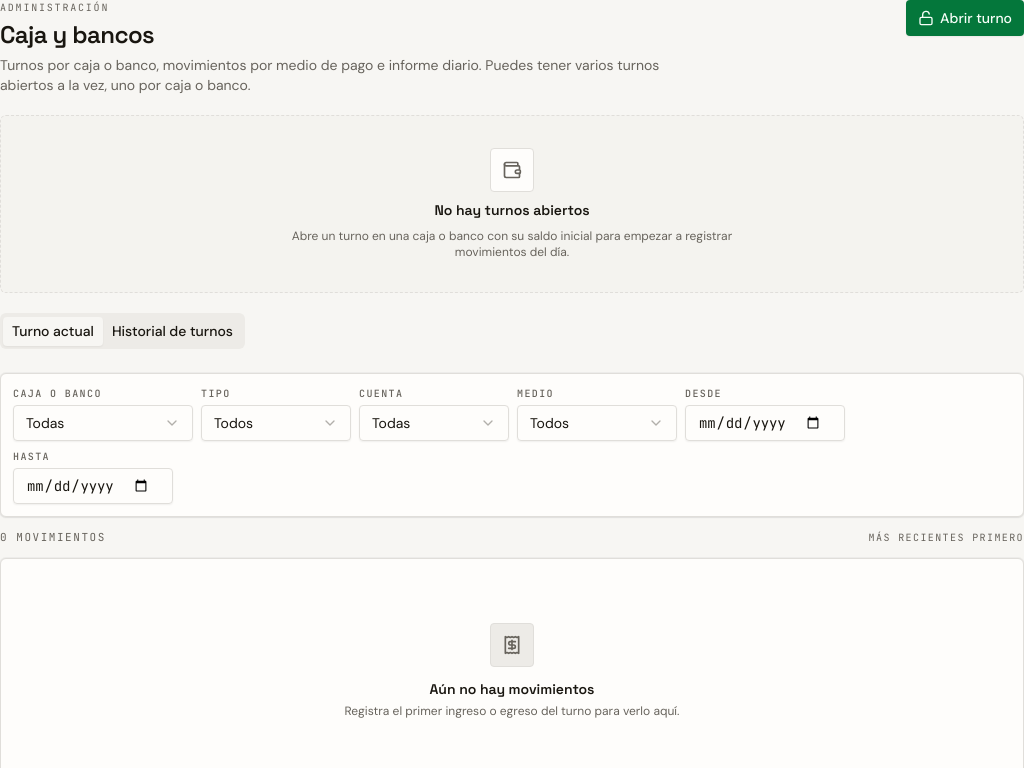
it: CajaBancosPage (multi-register) › surfaces the backend error when a register already has an open shift
Click the button with test id "caja.open_shift_button".
click(965, 18)  # box [906,0,1023,36]
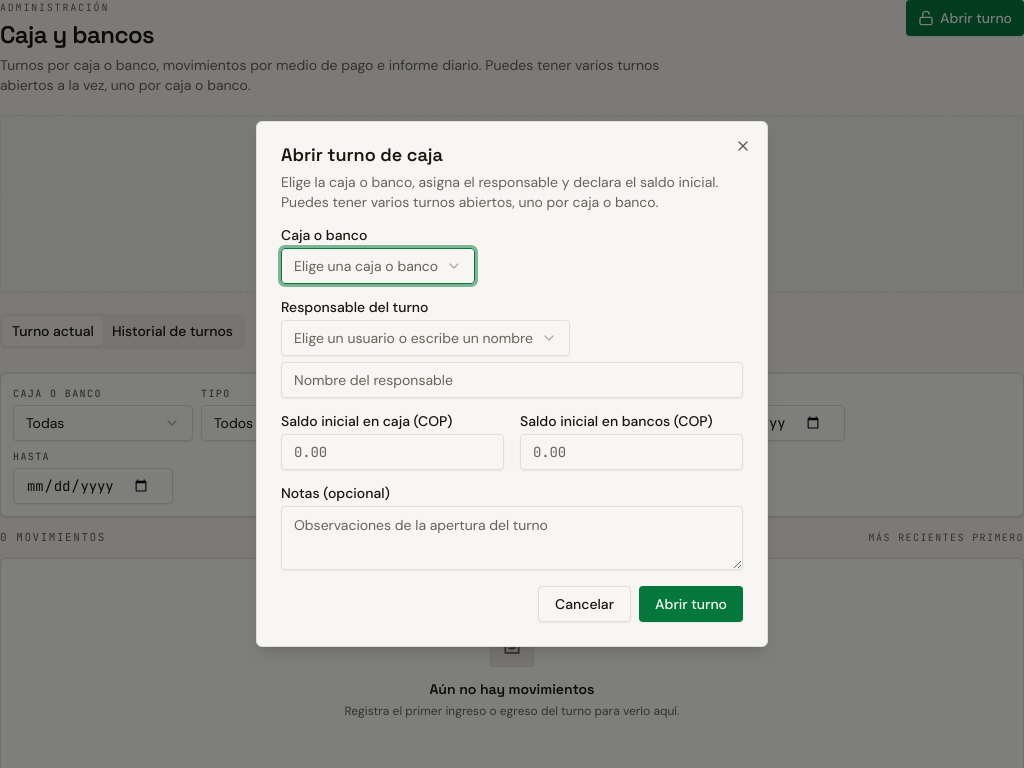
Click the dropdown with test id "caja.open_shift.register_select".
click(378, 266)  # box [281,248,475,284]
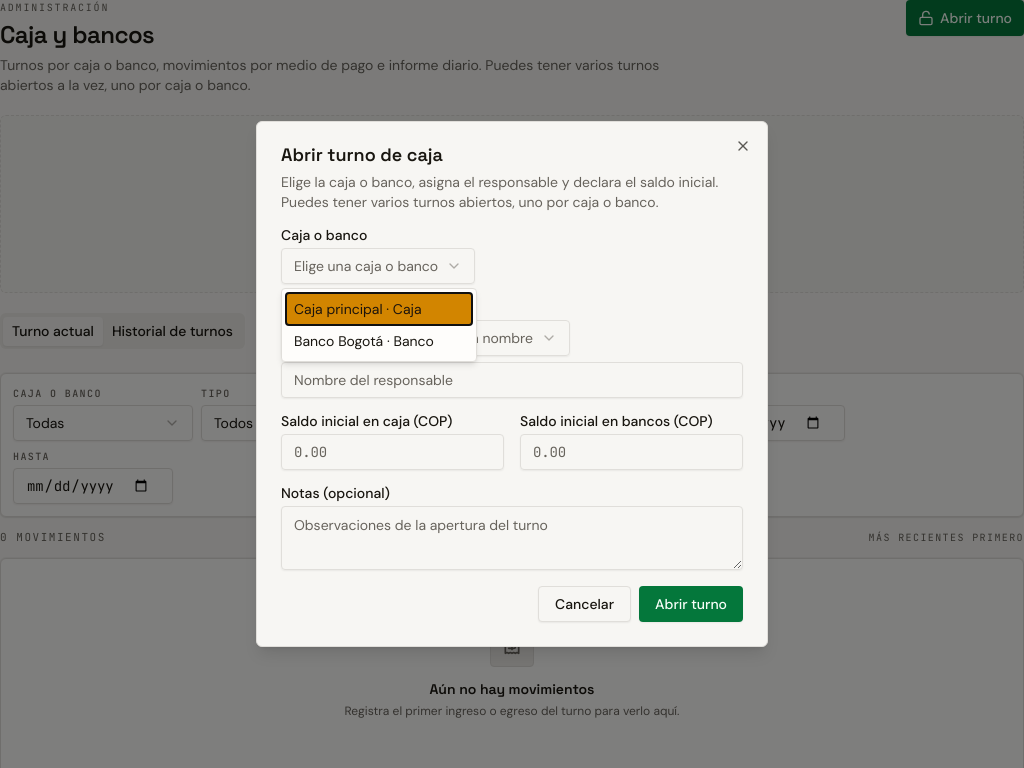
Click the option "Caja principal · Caja".
click(379, 309)  # box [286,293,472,325]
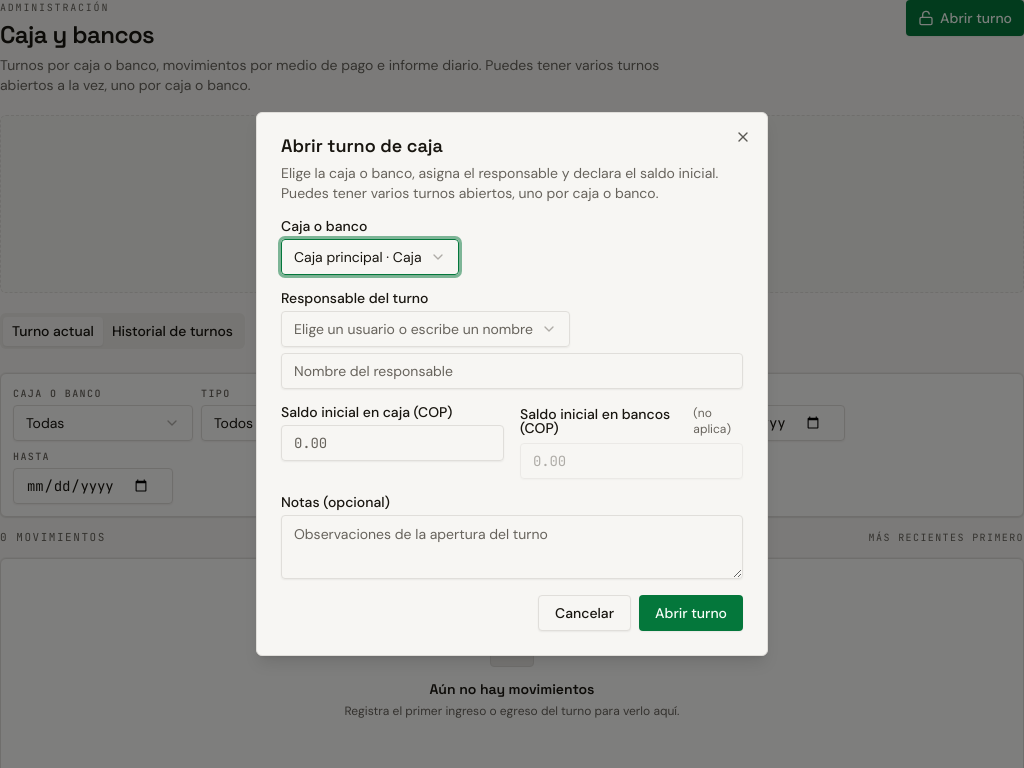
Type "Ana Torres" into the field with test id "caja.open_shift.responsible_input".
click(512, 371); type("Ana Torres")  # box [281,353,743,389]
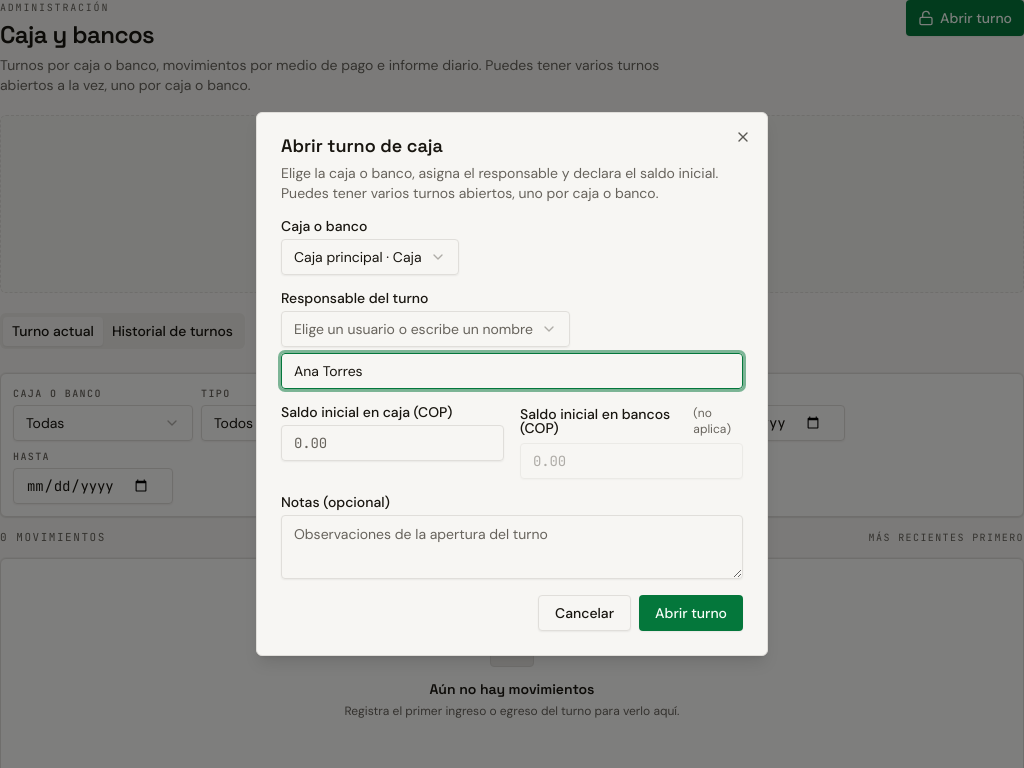
Type "1000" into the field with test id "caja.open_shift.cash_input".
click(392, 443); type("1000")  # box [281,425,504,461]
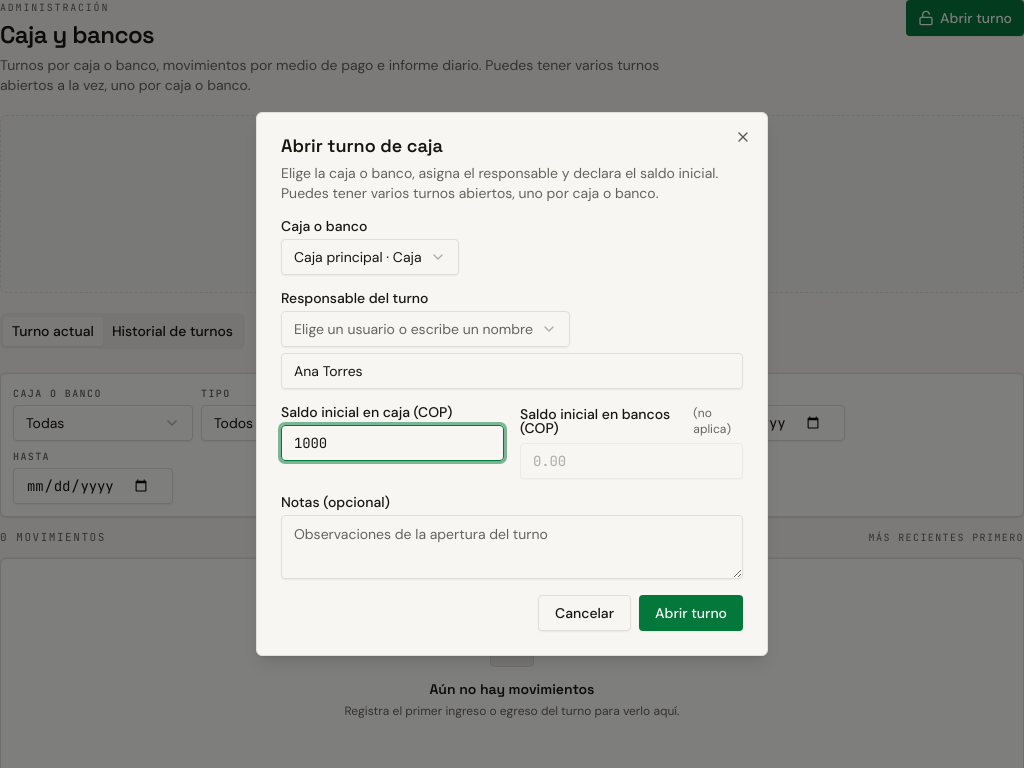
Click the button with test id "caja.open_shift.submit_button".
click(691, 613)  # box [639,595,743,631]
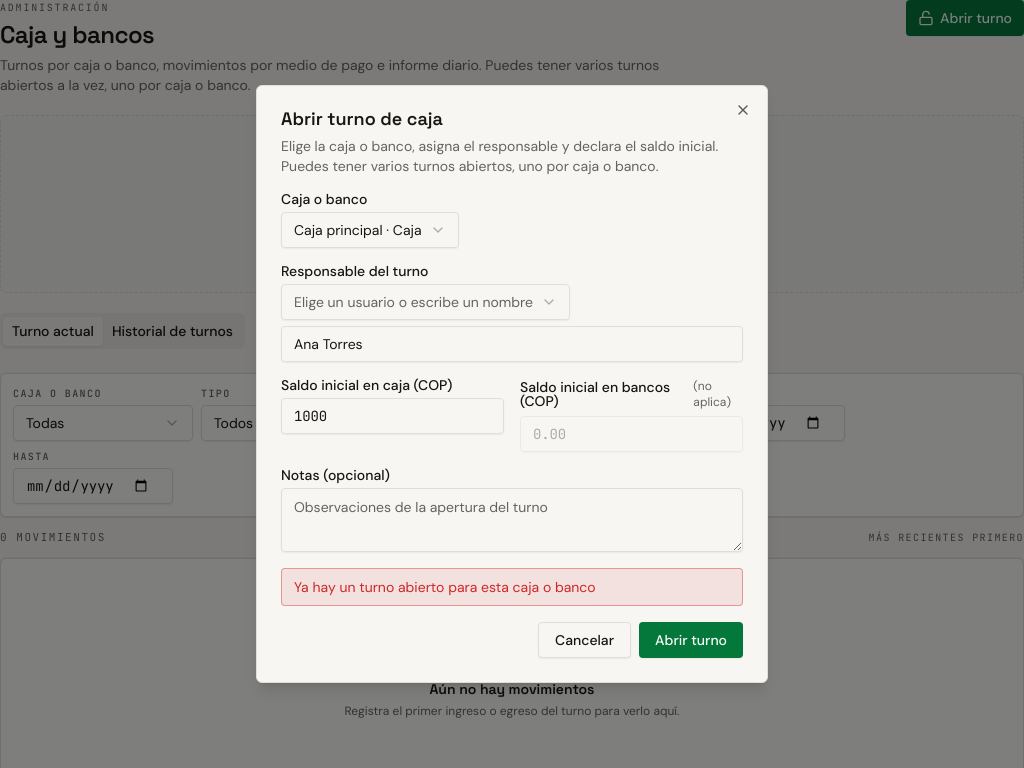
Expected: the text with test id "caja.open_shift.error_state" reads "Ya hay un turno abierto para esta caja o banco", [294,578,596,596]
